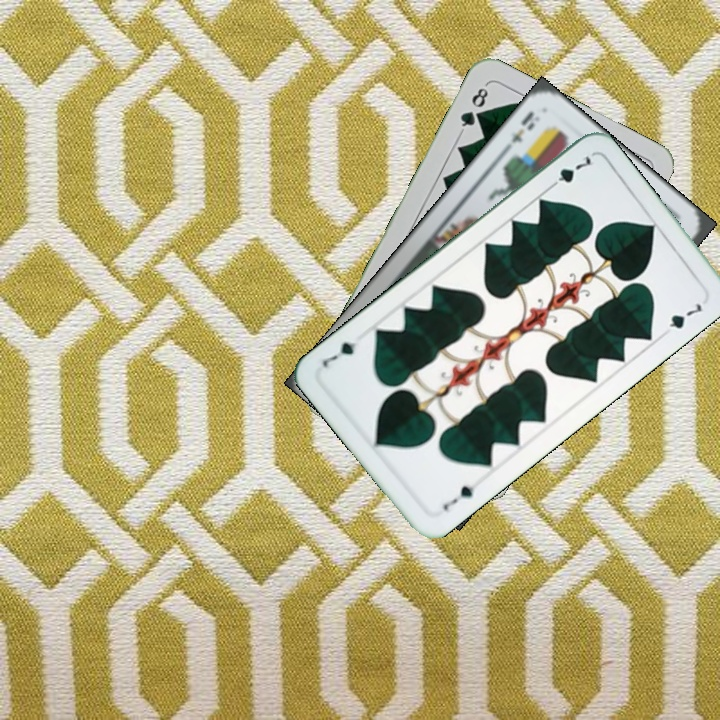EK: (498, 106, 543, 156)
G7: (543, 151, 596, 193), (438, 481, 477, 514)
G8: (456, 81, 491, 136)
